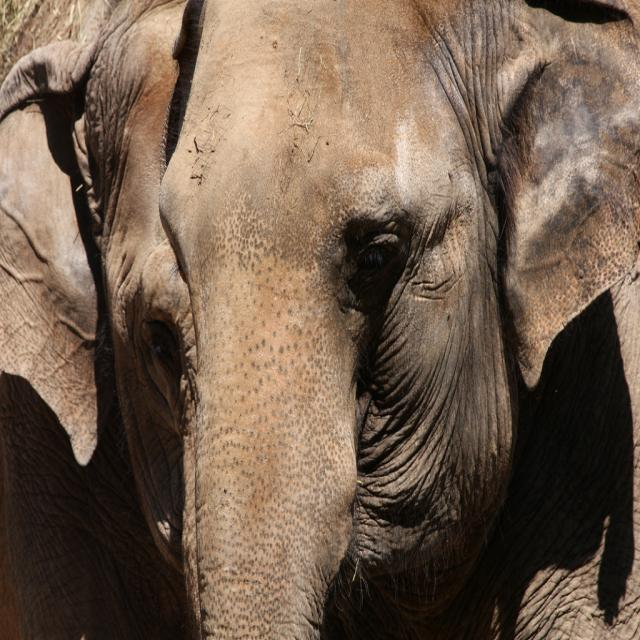Elephant: (0, 6, 581, 640)
